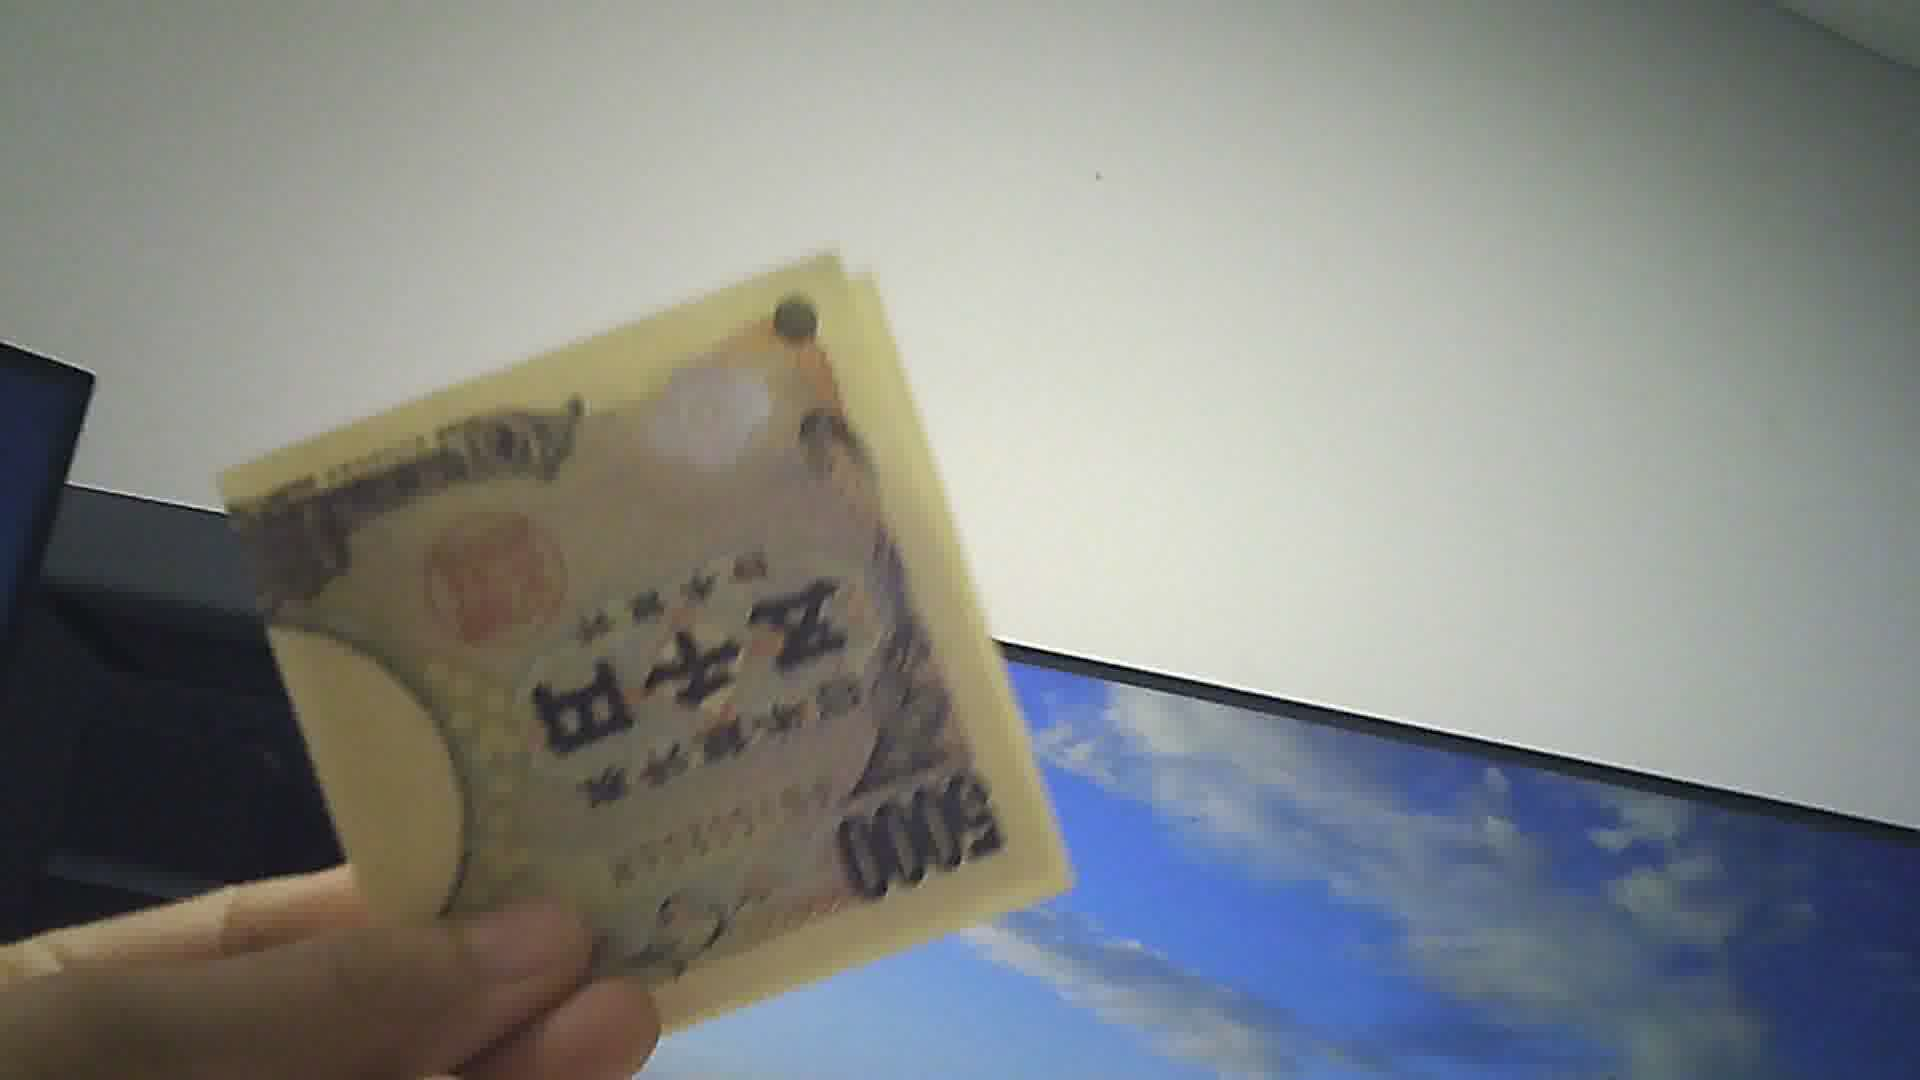5,000 Yen: (208, 247, 1095, 1038)
